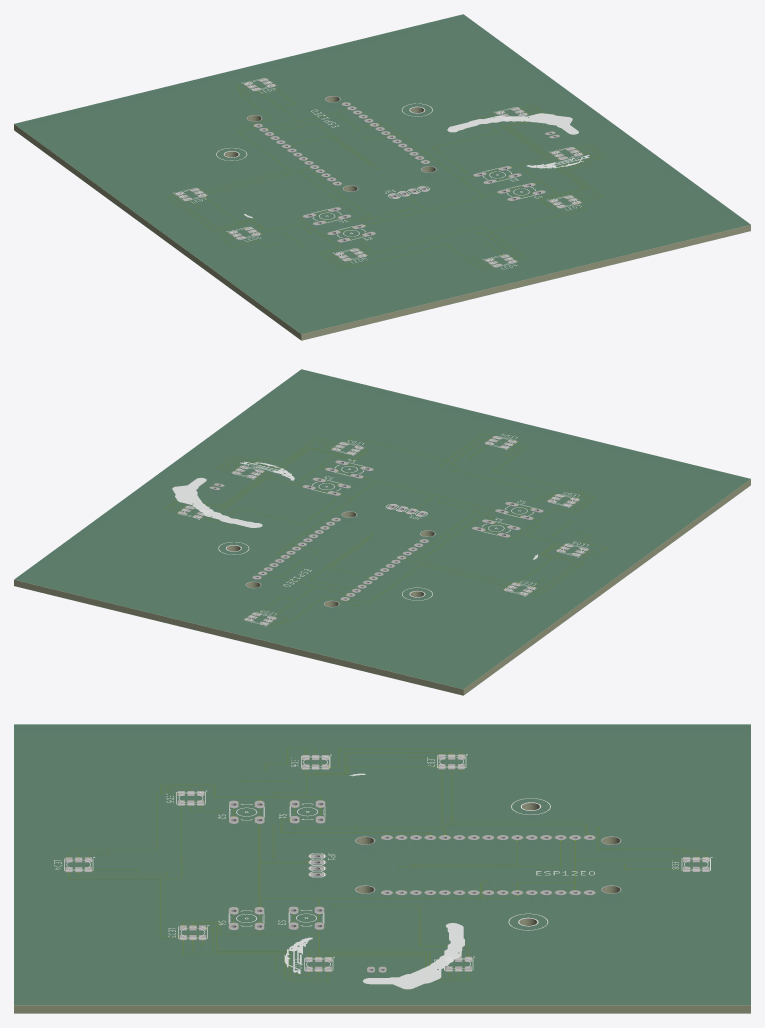
Rendered from nolacon-2018-badge-dead10c5-nola-con.glb.
3 views of the same model, one above another, from view 1: azimuth 30°, elevation 25°; view 2: azimuth 150°, elevation 25°; view 3: azimuth 270°, elevation 25° (orthographic). The views are drawn at different scales.
Parts seen in each view (by area): view 1: =>[0:1:1:7], =>[0:1:1:9], =>[0:1:1:2], =>[0:1:1:5]; view 2: =>[0:1:1:7], =>[0:1:1:9], =>[0:1:1:2], =>[0:1:1:5]; view 3: =>[0:1:1:7], =>[0:1:1:9], =>[0:1:1:2], =>[0:1:1:5].
Part boxes in pixels (left/top/right/bottom): =>[0:1:1:7]: left=14, top=14, right=750, bottom=340; =>[0:1:1:9]: left=14, top=15, right=750, bottom=340; =>[0:1:1:2]: left=167, top=78, right=603, bottom=267; =>[0:1:1:5]: left=173, top=78, right=589, bottom=269; =>[0:1:1:7]: left=14, top=369, right=750, bottom=695; =>[0:1:1:9]: left=14, top=370, right=750, bottom=695; =>[0:1:1:2]: left=165, top=434, right=605, bottom=625; =>[0:1:1:5]: left=172, top=433, right=588, bottom=626; =>[0:1:1:7]: left=14, top=724, right=750, bottom=1013; =>[0:1:1:9]: left=14, top=725, right=750, bottom=1013; =>[0:1:1:2]: left=66, top=748, right=708, bottom=980; =>[0:1:1:5]: left=54, top=754, right=712, bottom=989.
Size of the model in its own units: 0.1167 by 0.00166 by 0.1293.
Materials: 4 (4 with a texture image).
